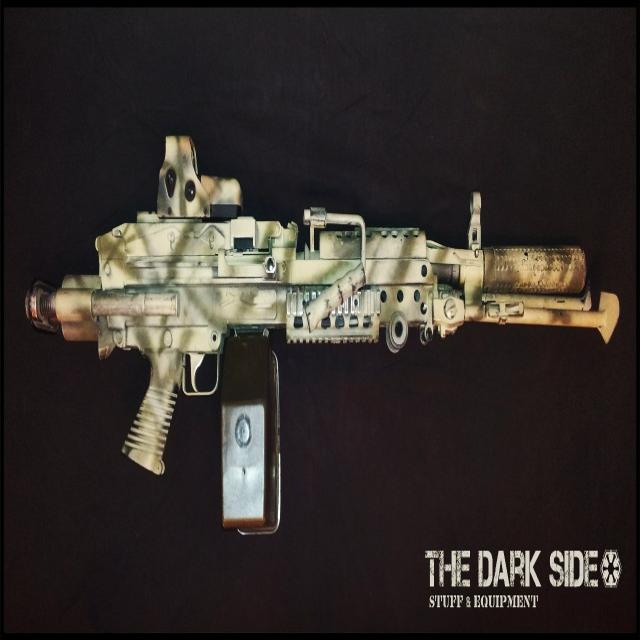firearm: (24, 134, 619, 481)
